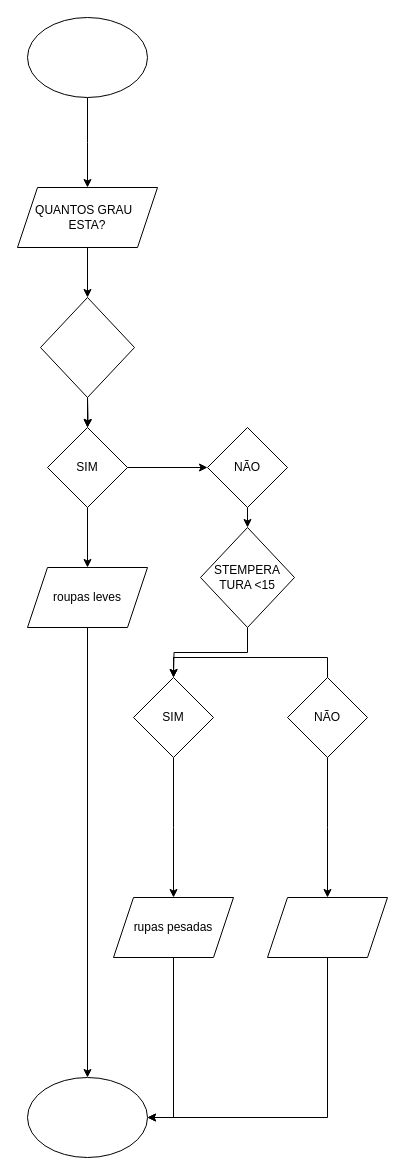
Some shapes in this 405 by 1175 pixel diagram are drawn without their labels. The centre of each missing label's shape, as x and y in pixels:
"FIM" belongs at point 87,1117.
"INICIO" belongs at point 87,57.
"rupas medianas" belongs at point 327,927.
"TÊMPERA TURA >25" belongs at point 87,347.
